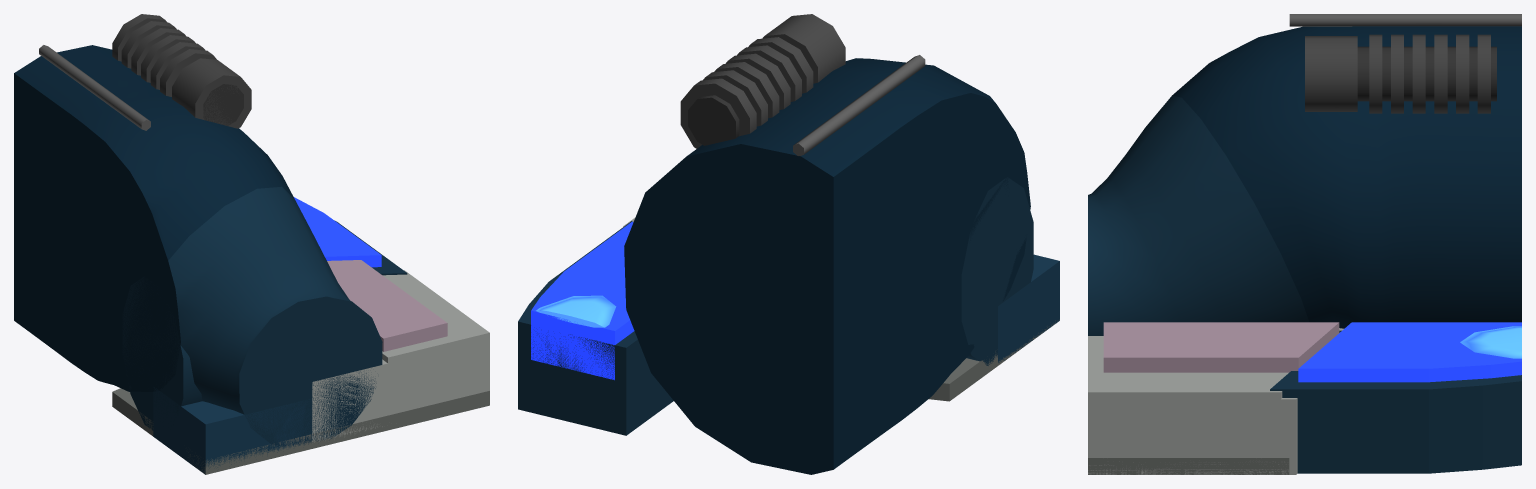
The model's file is newshb-83.glb.
3 renders of one model, left to right at view 1: azimuth 30°, elevation 25°; view 2: azimuth 150°, elevation 25°; view 3: azimuth 270°, elevation 25°, orthographic. The views are drawn at different scales.
Parts seen in each view (by area): view 1: newshb-83; view 2: newshb-83; view 3: newshb-83.
Part boxes in pixels (<box>): newshb-83: <box>14,14,489,474</box>; newshb-83: <box>518,14,1059,474</box>; newshb-83: <box>1088,14,1521,474</box>.
Bounding box in the file's own units: 2 × 2.04 × 2.33.
